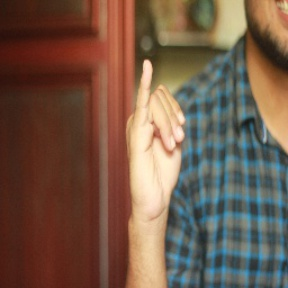I: (125, 58, 185, 219)
